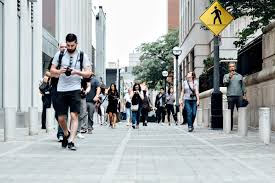people: (51, 34, 92, 148), (224, 62, 247, 130), (182, 73, 200, 131), (38, 72, 51, 132), (130, 84, 142, 128), (165, 89, 178, 126), (108, 84, 118, 128), (142, 86, 152, 127), (156, 88, 165, 125)
